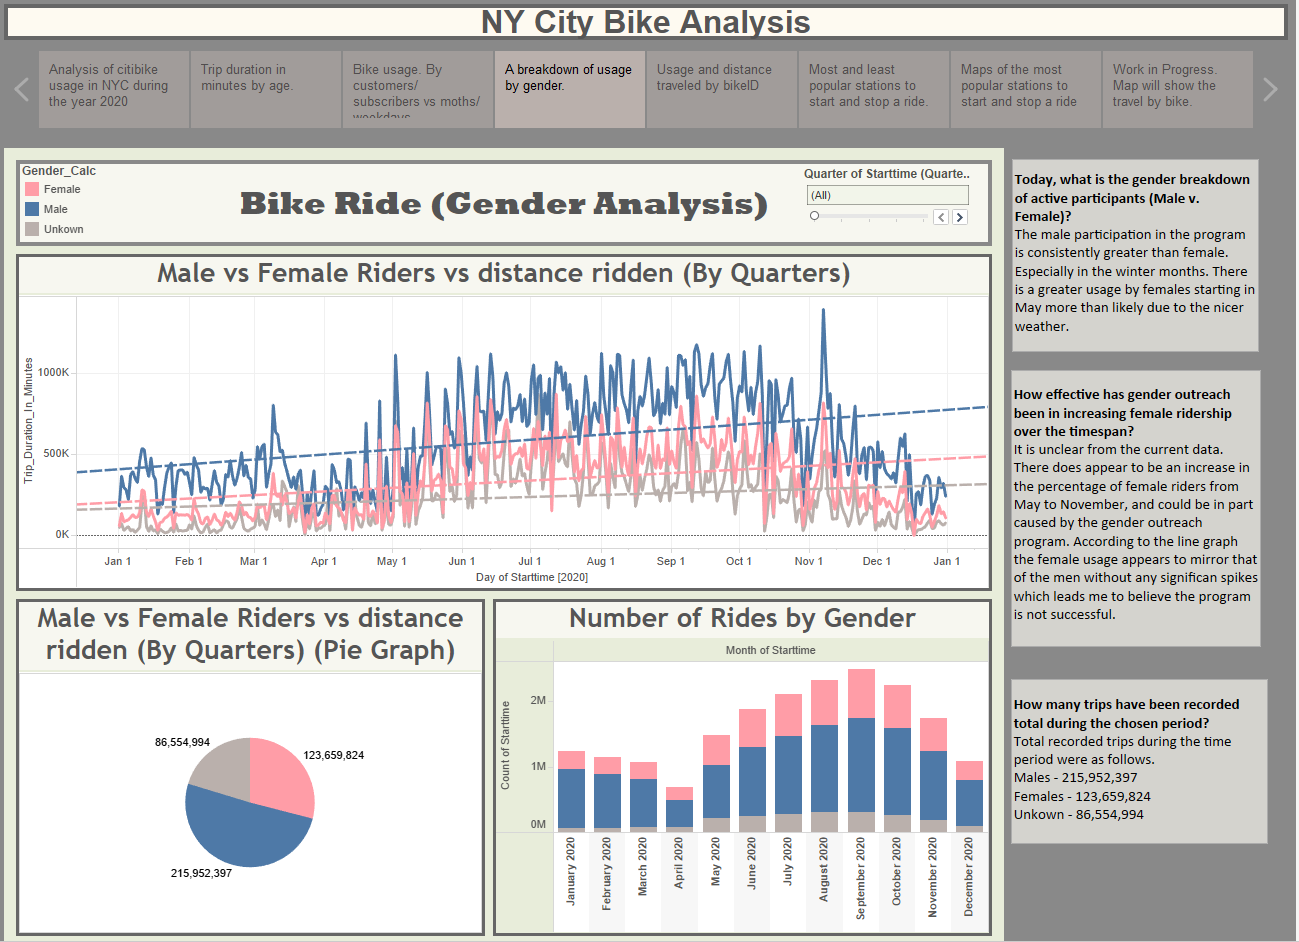

This screenshot's page, from the dashboard's own definition file:
{"tool":"tableau","page":{"name":"Gender Analysis Dash","canvas":[1000,800],"ordinal":1},"visuals":[{"type":"title","box":[8,8,984,94]},{"type":"legend","title":"1.4 Male vs Female total distance ridden","param":"[federated.1d6i2l30397zuh1gqeg1112rf6o0].[none:Calculation_1181913467456311296:n","box":[18,16,173,101]},{"type":"filter","title":"1.4 Male vs Female total distance ridden","param":"[federated.1d6i2l30397zuh1gqeg1112rf6o0].[qr:Starttime (Quarters):ok]","box":[800,19,168,75]},{"type":"worksheet","title":"1.4 Male vs Female total distance ridden","mark":"Automatic","rows":["Calculation_1181913467460657153"],"cols":["starttime"],"box":[8,102,984,345]},{"type":"worksheet","title":"1.4.1 Males vs Females (Pie)","mark":"Pie","box":[8,447,477,345]},{"type":"worksheet","title":"1.4.2 Gender Analysis","mark":"Bar","rows":["starttime"],"cols":["starttime"],"box":[485,447,507,345]}]}

Visuals, with their boxes on the page's 1000x800 design canvas (x1, y1, x2, y2). These are canvas units, not pixel positions in the 1299x942 screenshot, which may show the page scaled, cropped or inside an application window:
title: {"left": 8, "top": 8, "right": 992, "bottom": 102}
"1.4 Male vs Female total distance ridden" legend: {"left": 18, "top": 16, "right": 191, "bottom": 117}
"1.4 Male vs Female total distance ridden" filter: {"left": 800, "top": 19, "right": 968, "bottom": 94}
"1.4 Male vs Female total distance ridden" worksheet: {"left": 8, "top": 102, "right": 992, "bottom": 447}
"1.4.1 Males vs Females (Pie)" worksheet (Pie marks): {"left": 8, "top": 447, "right": 485, "bottom": 792}
"1.4.2 Gender Analysis" worksheet (Bar marks): {"left": 485, "top": 447, "right": 992, "bottom": 792}
